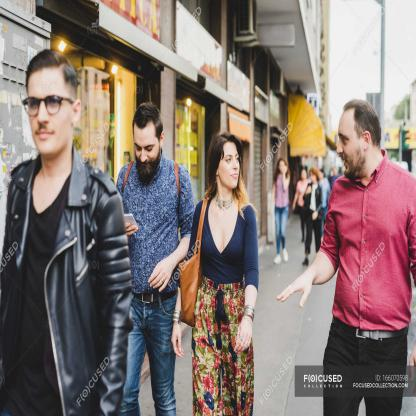person: (0, 48, 130, 415), (320, 101, 415, 415), (110, 103, 196, 416), (189, 129, 259, 416)
